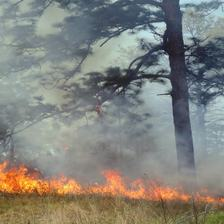fire: (1, 153, 221, 211)
